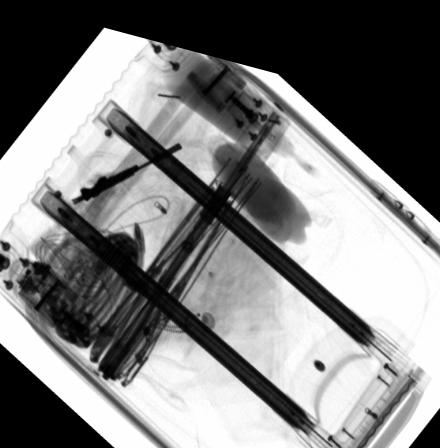Gun: (69, 129, 183, 202)
